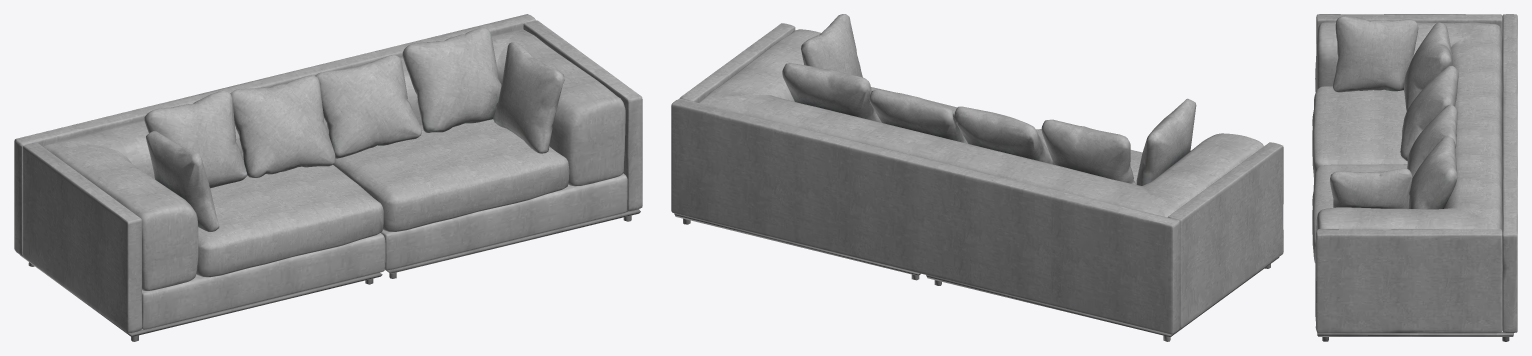
Rendered from office-sofa.glb.
3 views of the same model, side by side, from view 1: azimuth 30°, elevation 25°; view 2: azimuth 150°, elevation 25°; view 3: azimuth 270°, elevation 25° (orthographic). The views are drawn at different scales.
Visible parts, largest first — view 1: defaultMaterial (×6); view 2: defaultMaterial (×5); view 3: defaultMaterial (×5).
Boxes of the visible parts, <box> form: defaultMaterial (×6): <box>14,14,642,341</box>; defaultMaterial (×5): <box>671,14,1283,341</box>; defaultMaterial (×5): <box>1312,14,1517,341</box>.
Size of the model in its own units: 2 by 0.6017 by 0.7837.
Materials: 6 (6 with a texture image).
